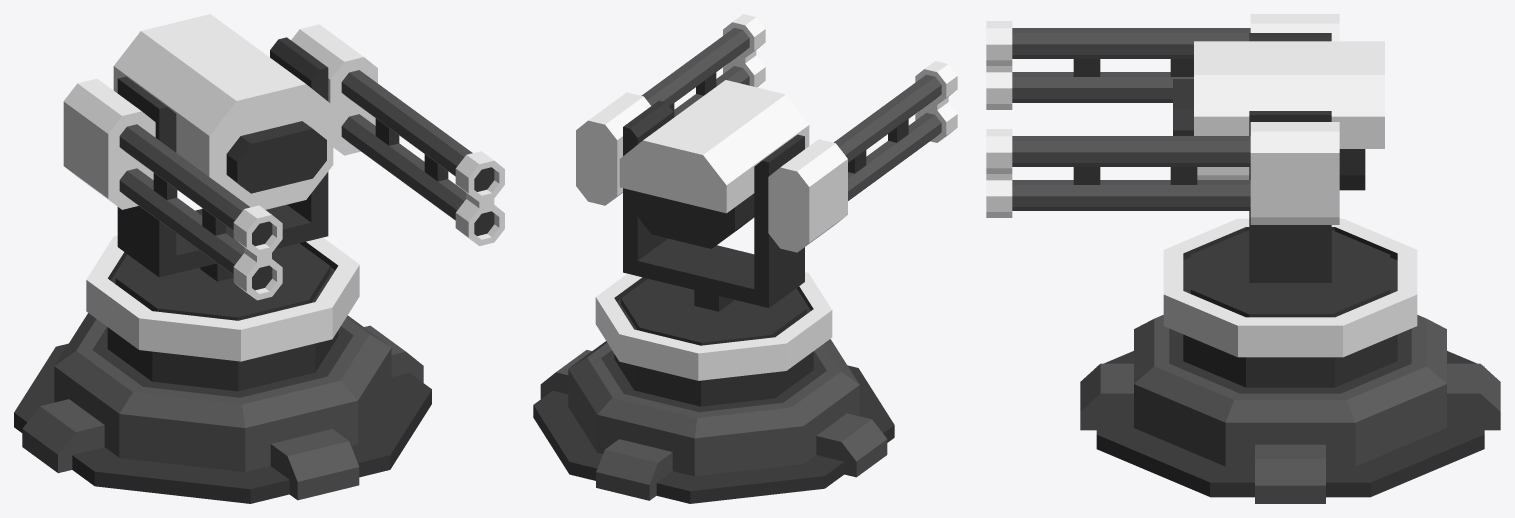
The model's file is AntiAir_2.fbx.
3 renders of one model, left to right at view 1: azimuth 30°, elevation 25°; view 2: azimuth 150°, elevation 25°; view 3: azimuth 270°, elevation 25°, orthographic. The views are drawn at different scales.
Visible parts, largest first — view 1: Base_Mesh, Upper_Mesh, Body_Mesh, Gun2_Mesh, Gun1_Mesh; view 2: Base_Mesh, Upper_Mesh, Body_Mesh, Gun1_Mesh, Gun2_Mesh; view 3: Base_Mesh, Upper_Mesh, Body_Mesh, Gun2_Mesh, Gun1_Mesh.
Part boxes in pixels (left/top/right/bottom): Base_Mesh: left=14, top=313, right=431, bottom=503; Upper_Mesh: left=86, top=37, right=359, bottom=391; Body_Mesh: left=63, top=14, right=377, bottom=209; Gun2_Mesh: left=341, top=70, right=504, bottom=245; Gun1_Mesh: left=119, top=124, right=282, bottom=300; Base_Mesh: left=533, top=339, right=894, bottom=503; Upper_Mesh: left=595, top=100, right=832, bottom=406; Body_Mesh: left=576, top=80, right=847, bottom=252; Gun1_Mesh: left=834, top=61, right=957, bottom=200; Gun2_Mesh: left=641, top=14, right=765, bottom=117; Base_Mesh: left=1080, top=315, right=1500, bottom=503; Upper_Mesh: left=1163, top=33, right=1417, bottom=387; Body_Mesh: left=1173, top=14, right=1384, bottom=224; Gun2_Mesh: left=986, top=129, right=1250, bottom=217; Gun1_Mesh: left=986, top=21, right=1250, bottom=109.
Size of the model in its own units: 1.3 by 1.22 by 1.59.
